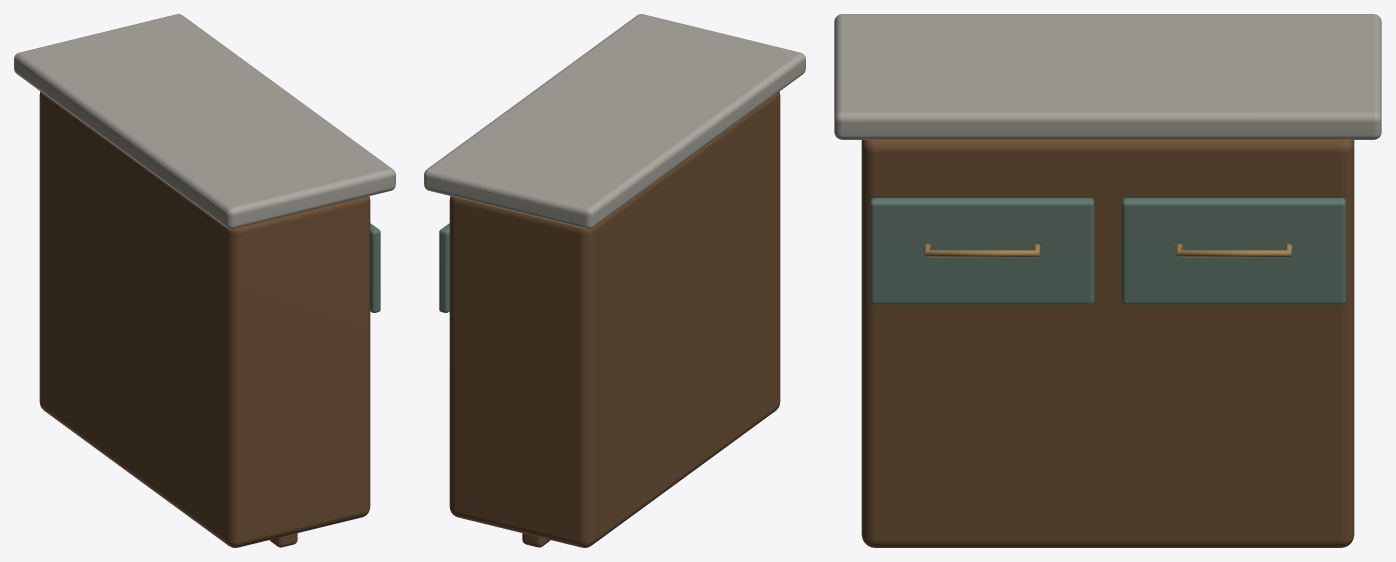
The model's file is hall_console.glb.
3 views of the same model, side by side, from view 1: azimuth 30°, elevation 25°; view 2: azimuth 150°, elevation 25°; view 3: azimuth 270°, elevation 25° (orthographic). The views are drawn at different scales.
Visible parts, largest first — view 1: Console carcass, Stoneware console cap, Sage inset drawer.001; view 2: Console carcass, Stoneware console cap, Sage inset drawer; view 3: Console carcass, Stoneware console cap, Sage inset drawer, Sage inset drawer.001, Brass drawer pull, Brass drawer pull.001.
Part boxes in pixels (x1,y1,x2,y2): Console carcass: (39,91,370,547); Stoneware console cap: (14,14,395,229); Sage inset drawer.001: (370,223,380,312); Console carcass: (449,91,780,547); Stoneware console cap: (424,14,805,229); Sage inset drawer: (439,223,449,312); Console carcass: (861,140,1354,547); Stoneware console cap: (834,14,1381,139); Sage inset drawer: (1121,198,1345,304); Sage inset drawer.001: (870,198,1094,304); Brass drawer pull: (1175,243,1292,257); Brass drawer pull.001: (923,243,1040,257).
Bounding box in the file's own units: 0.4899 × 0.9525 × 1.
